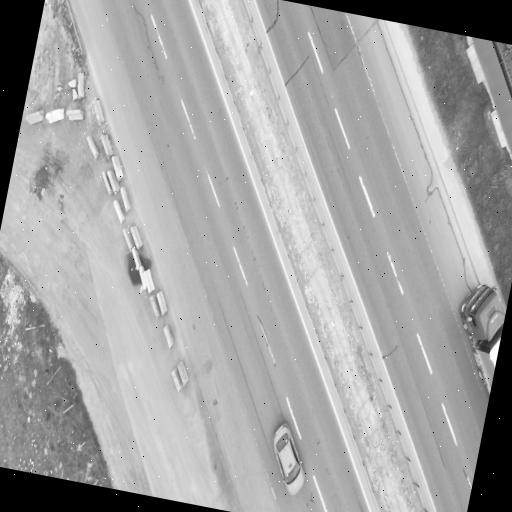car: (272, 422, 303, 493)
truck: (460, 284, 505, 395)
